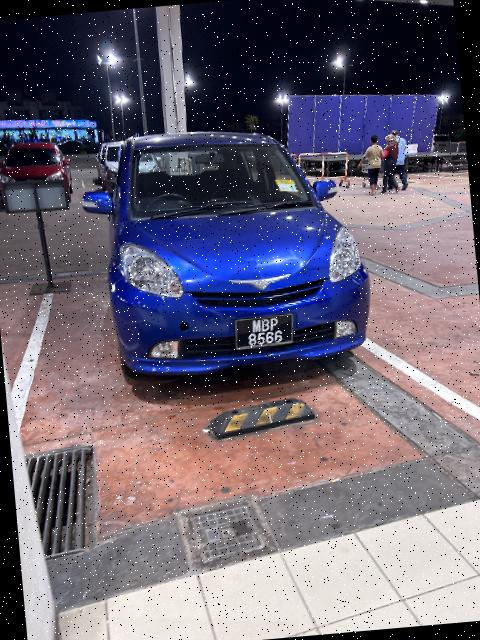License_Plate: (234, 313, 297, 356)
car: (72, 112, 379, 396)
